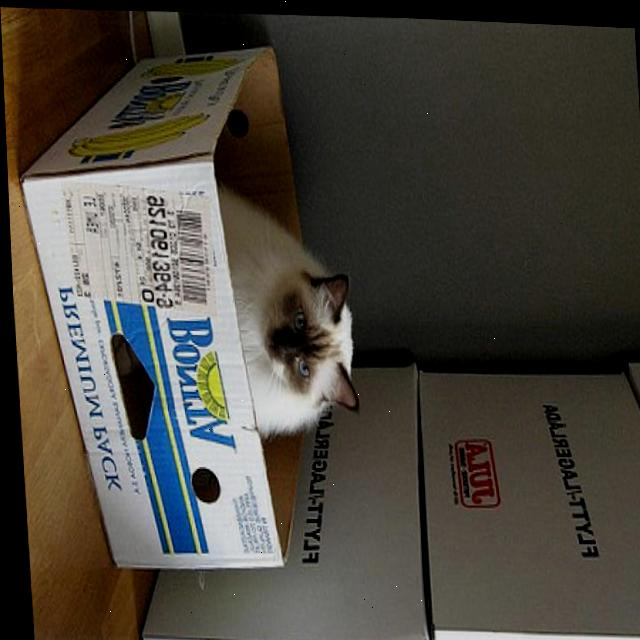Birman: (209, 173, 370, 439)
